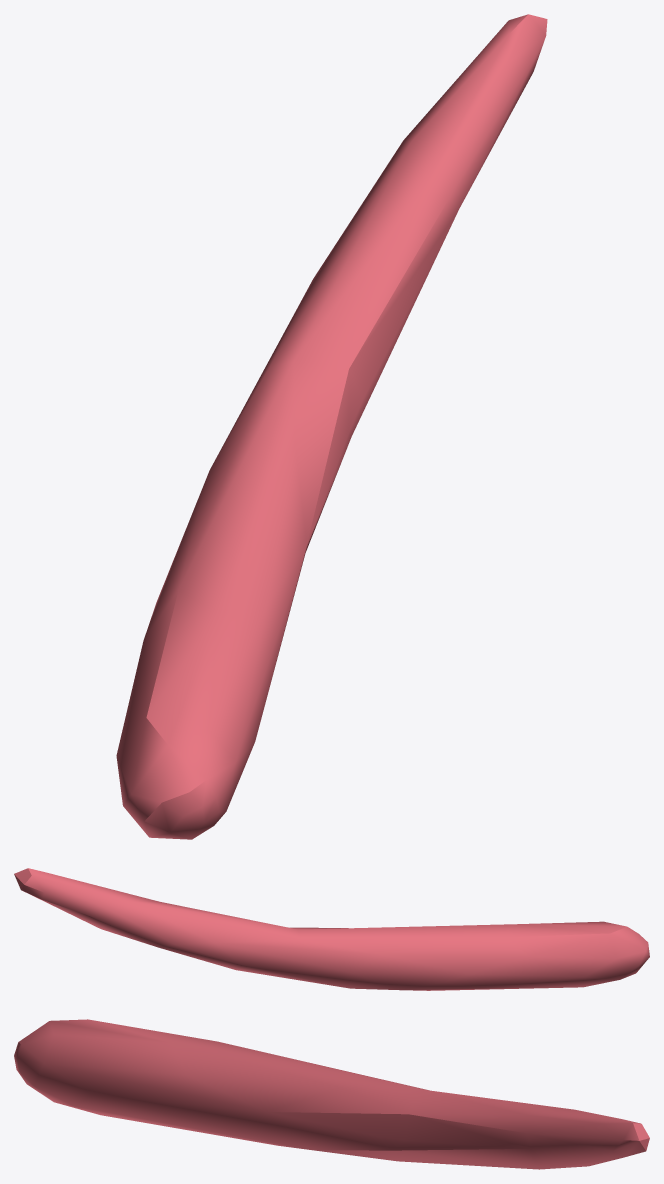
File: fma9438_fj2929.glb
3 views of the same model, one above another, from view 1: azimuth 30°, elevation 25°; view 2: azimuth 150°, elevation 25°; view 3: azimuth 270°, elevation 25° (orthographic). The views are drawn at different scales.
Parts seen in each view (by area): view 1: FMA9438_FJ2929; view 2: FMA9438_FJ2929; view 3: FMA9438_FJ2929.
Part boxes in pixels (x1=…): FMA9438_FJ2929: x1=116, y1=14, x2=547, y2=839; FMA9438_FJ2929: x1=14, y1=868, x2=649, y2=990; FMA9438_FJ2929: x1=14, y1=1019, x2=649, y2=1169.
Bounding box in the file's own units: 0.012 × 0.00455 × 0.0113.
